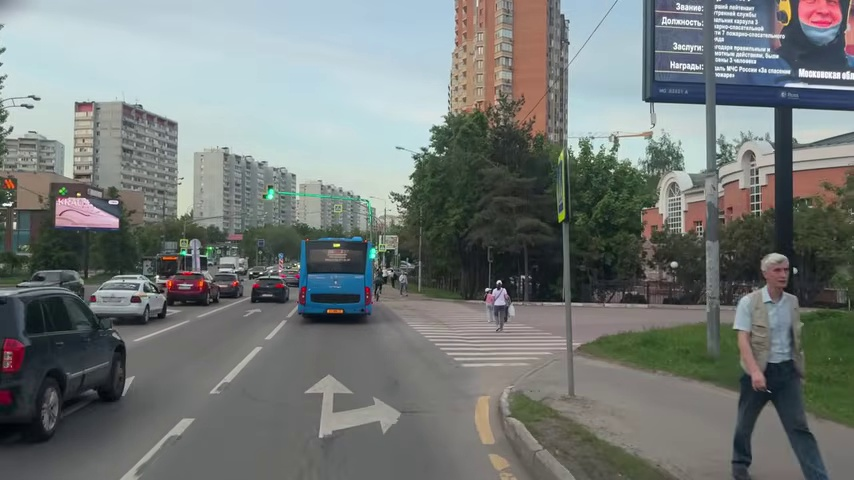apagada: (21, 93, 42, 112)
